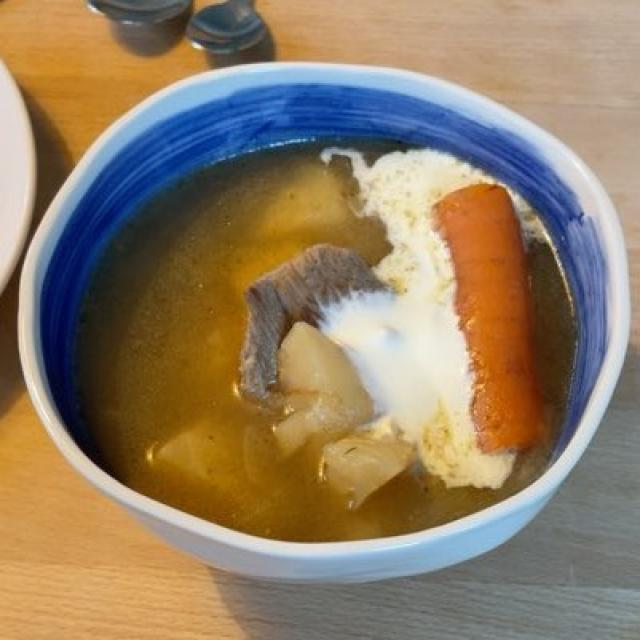carrot-raw: (425, 179, 550, 465)
cream: (326, 161, 496, 473)
potatoes-steamed: (153, 142, 393, 522)
